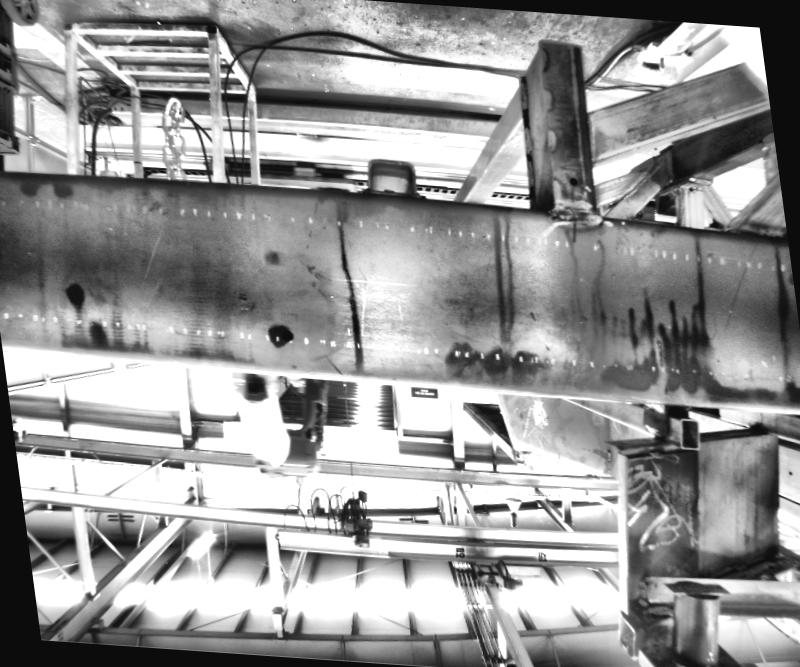bracket: (349, 155, 431, 203)
hole: (280, 327, 292, 340), (567, 176, 579, 185)
welding: (548, 200, 598, 223)
